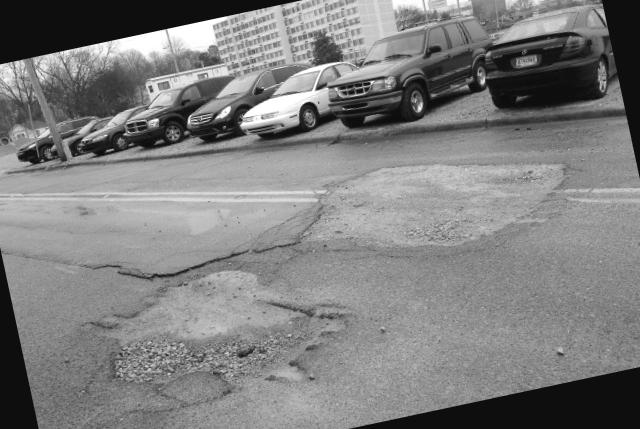Pothole: (60, 226, 358, 429), (286, 113, 594, 286)
